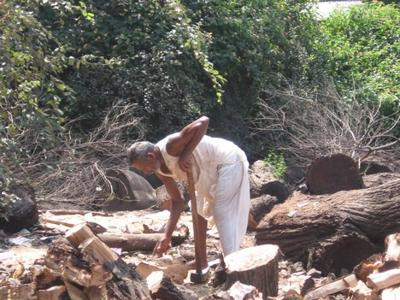person: (128, 116, 254, 256)
